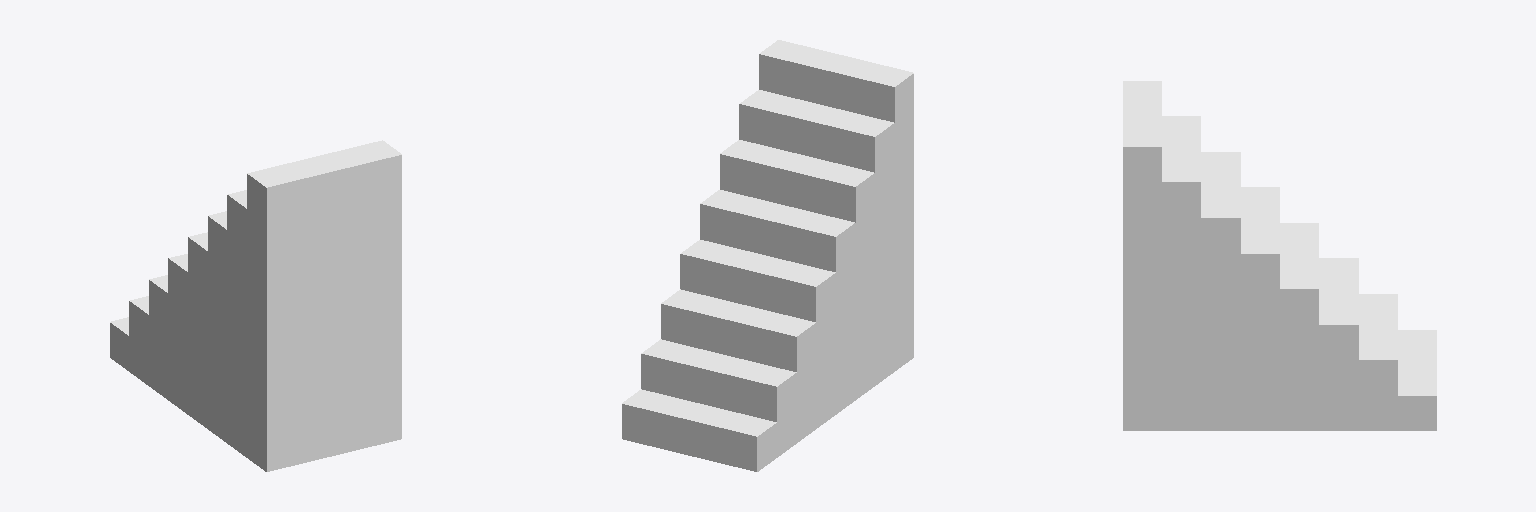
The model's file is stairs-stone.obj.
The picture shows the model from 3 angles: view 1: azimuth 30°, elevation 25°; view 2: azimuth 150°, elevation 25°; view 3: azimuth 270°, elevation 25°; orthographic projection.
Visible parts, largest first — view 1: stairs-stone; view 2: stairs-stone; view 3: stairs-stone.
Boxes of the visible parts, x1,y1,x2,y2 form: stairs-stone: [110, 140, 401, 471]; stairs-stone: [622, 40, 913, 471]; stairs-stone: [1123, 81, 1436, 430].
Bounding box in the file's own units: 0.5 × 1 × 1.